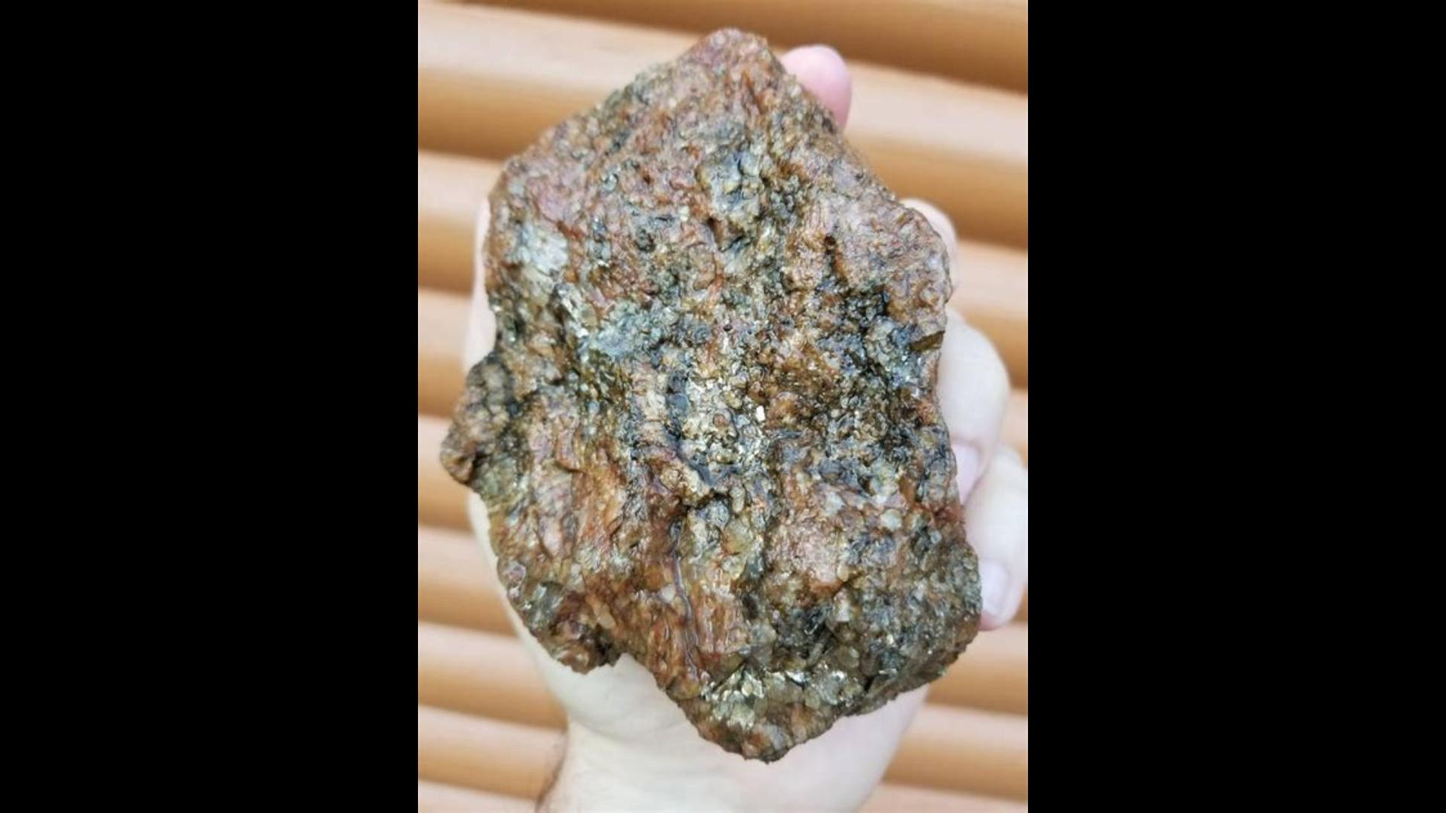rock: (442, 31, 979, 759)
